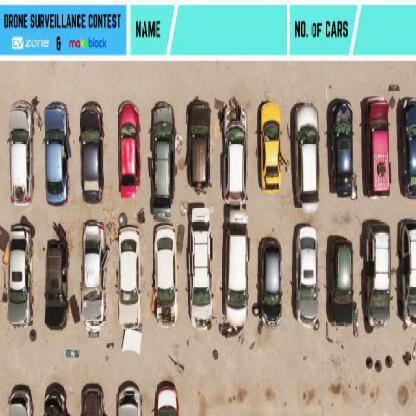car: (224, 126, 249, 321), (293, 103, 321, 212), (362, 95, 391, 199), (81, 221, 107, 333), (43, 104, 71, 205), (328, 100, 355, 202), (190, 207, 212, 329), (80, 104, 104, 203), (259, 236, 283, 330), (296, 228, 318, 326), (397, 221, 415, 332), (262, 102, 283, 195), (118, 226, 140, 304), (401, 95, 415, 202), (116, 384, 142, 415)
